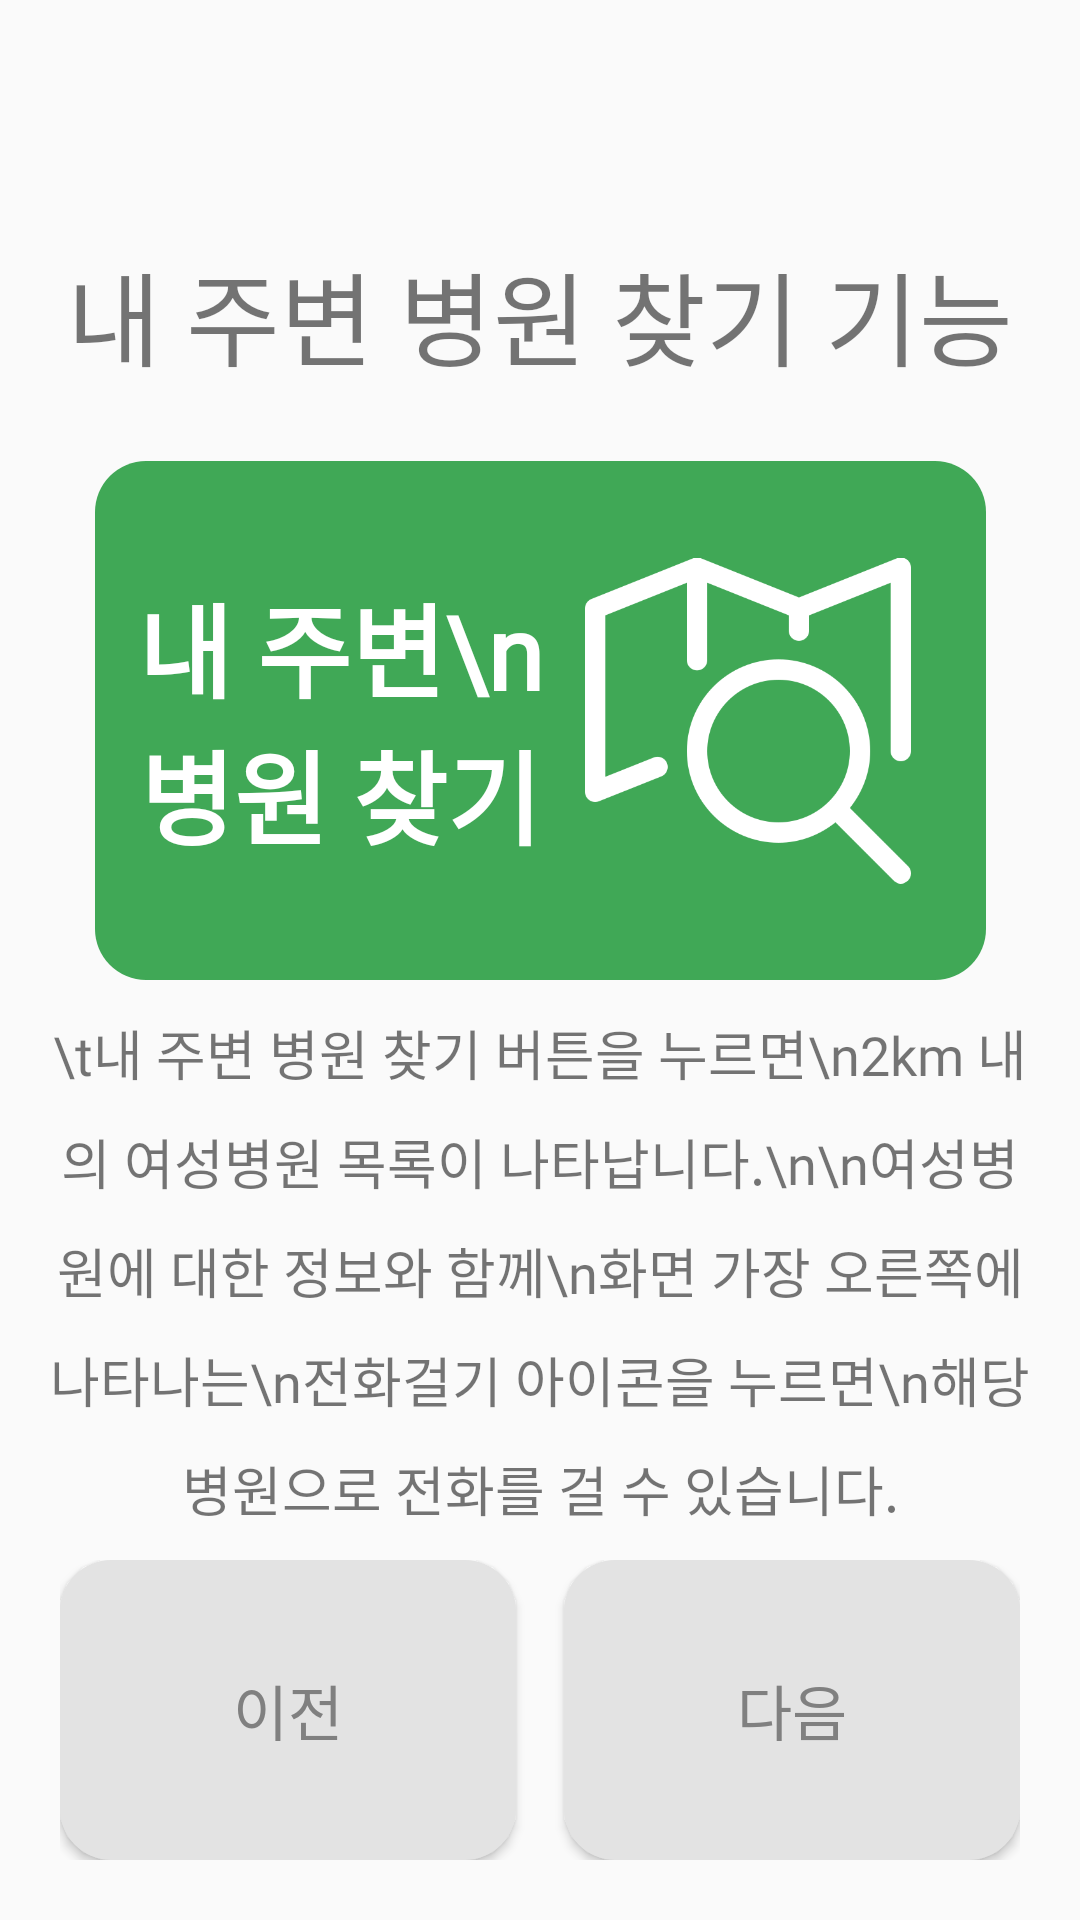

Where icons sit on this 1080×1920 app screen, as {"x1": x1, "y1": y1, "x2": x2, "y2": y2}:
map: {"x1": 585, "y1": 558, "x2": 911, "y2": 884}
